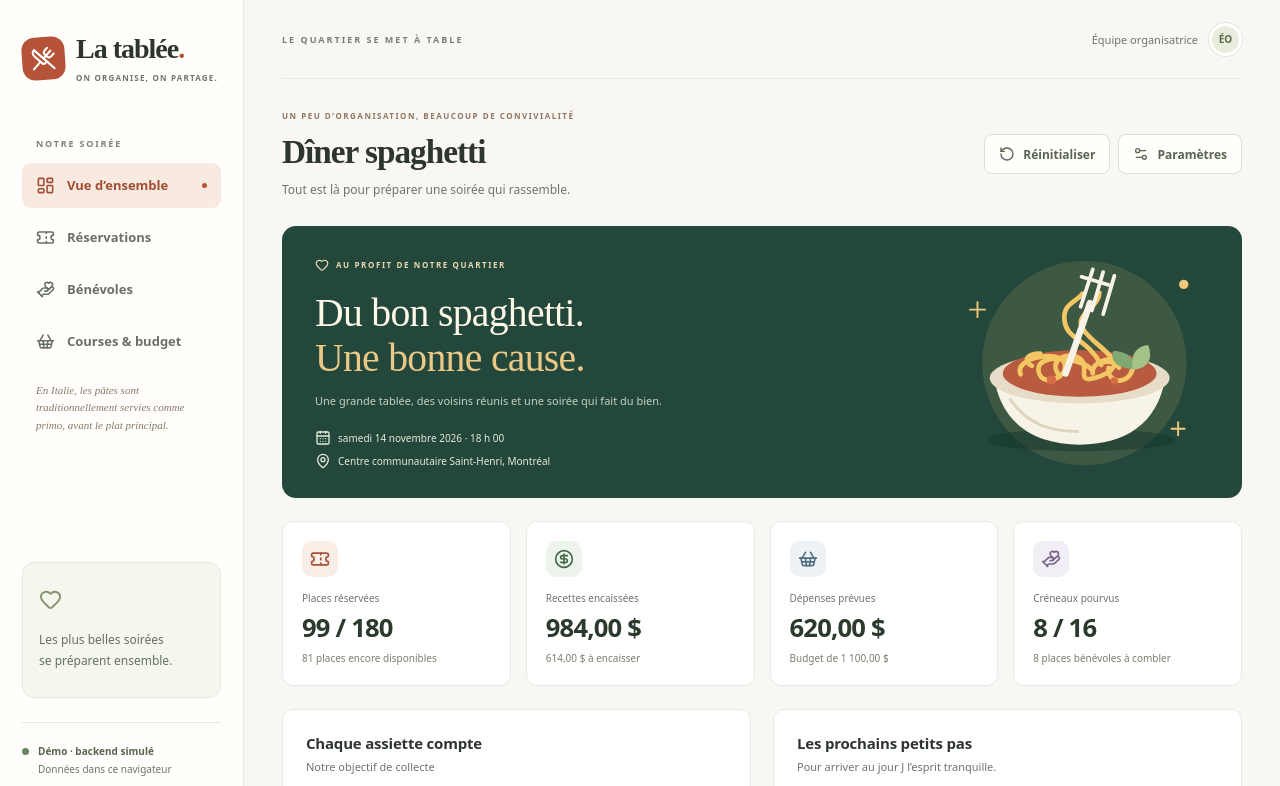
organizer interface › adds and removes a volunteer from a shift
Check: the heading "Du bon spaghetti.Une bonne cause." is shown, box [315,291,585,380]
Click the button "Bénévoles" at (122, 289), box [22,267,221,312]
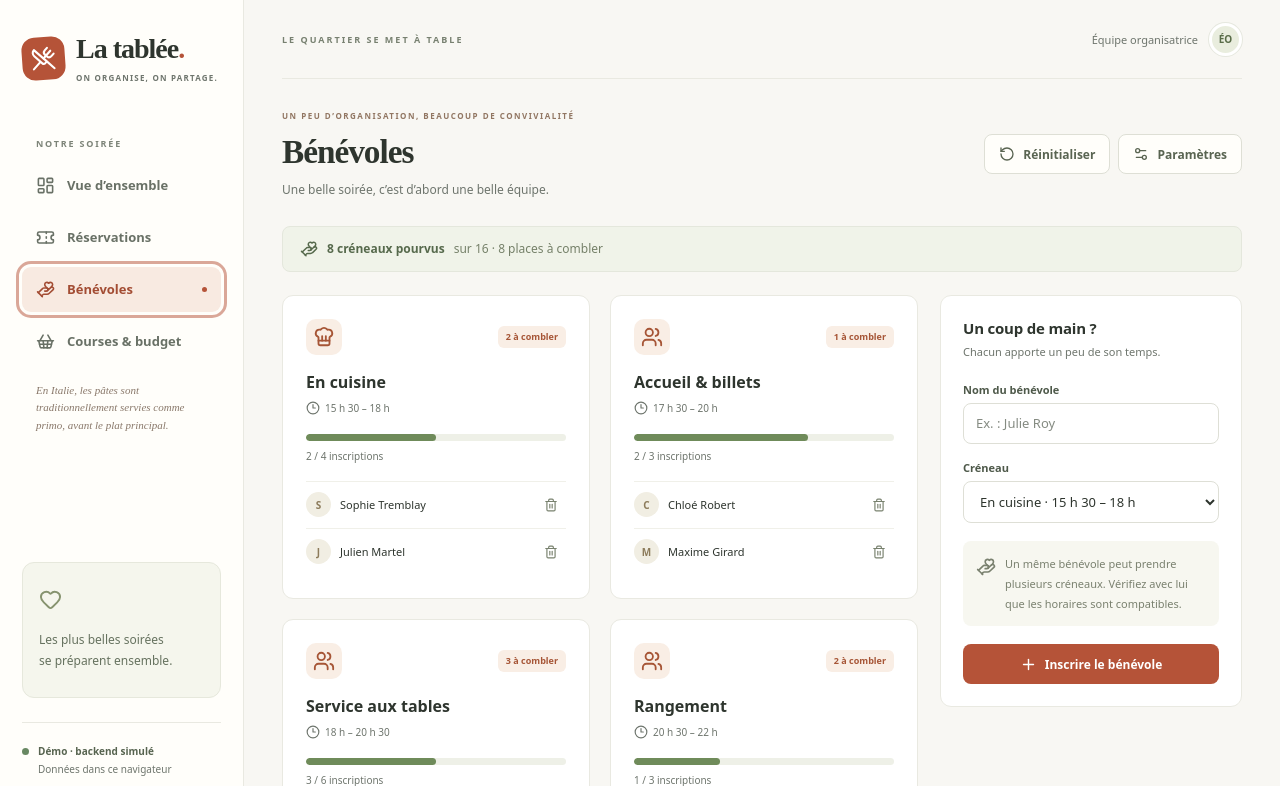
Type "Julie Demo" into the field labelled "Nom du bénévole" at (1091, 423), box [963,402,1219,444]
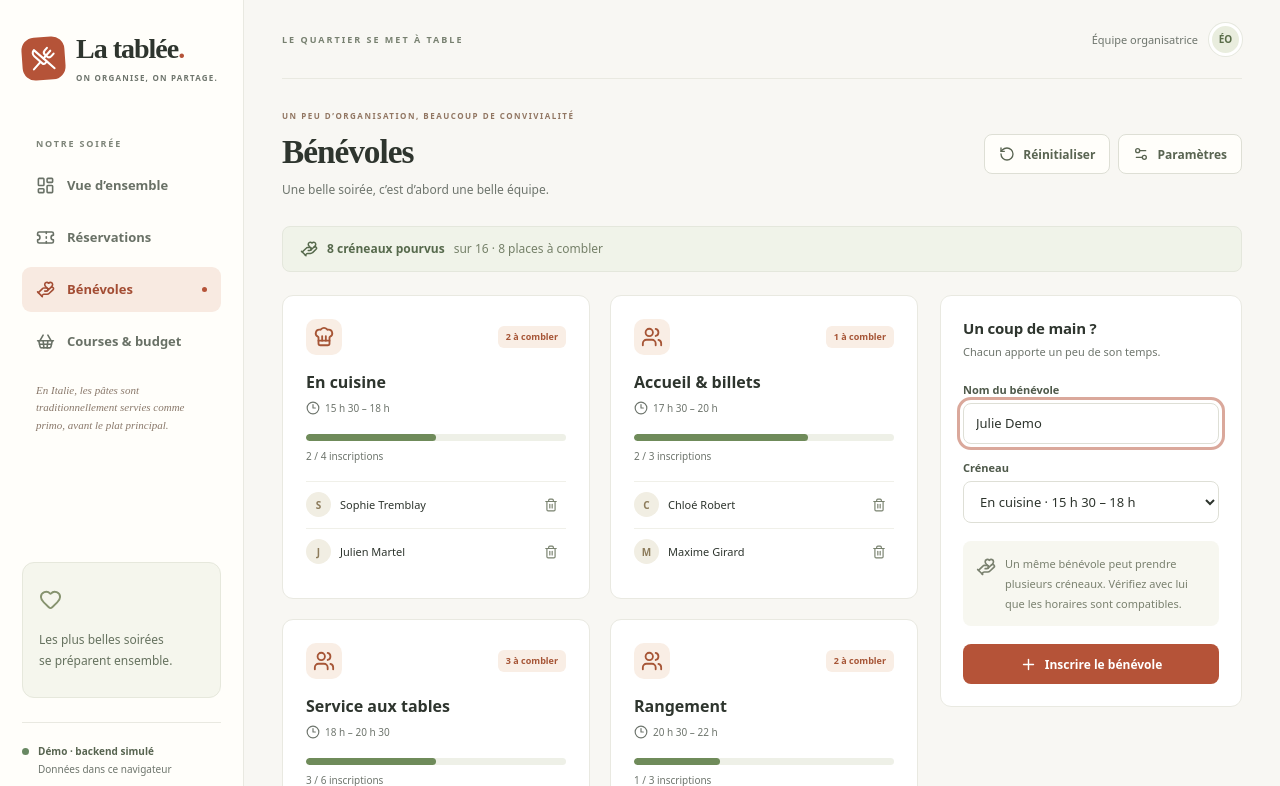
Click the button "Inscrire le bénévole" at (1091, 664), box [963,644,1219,684]
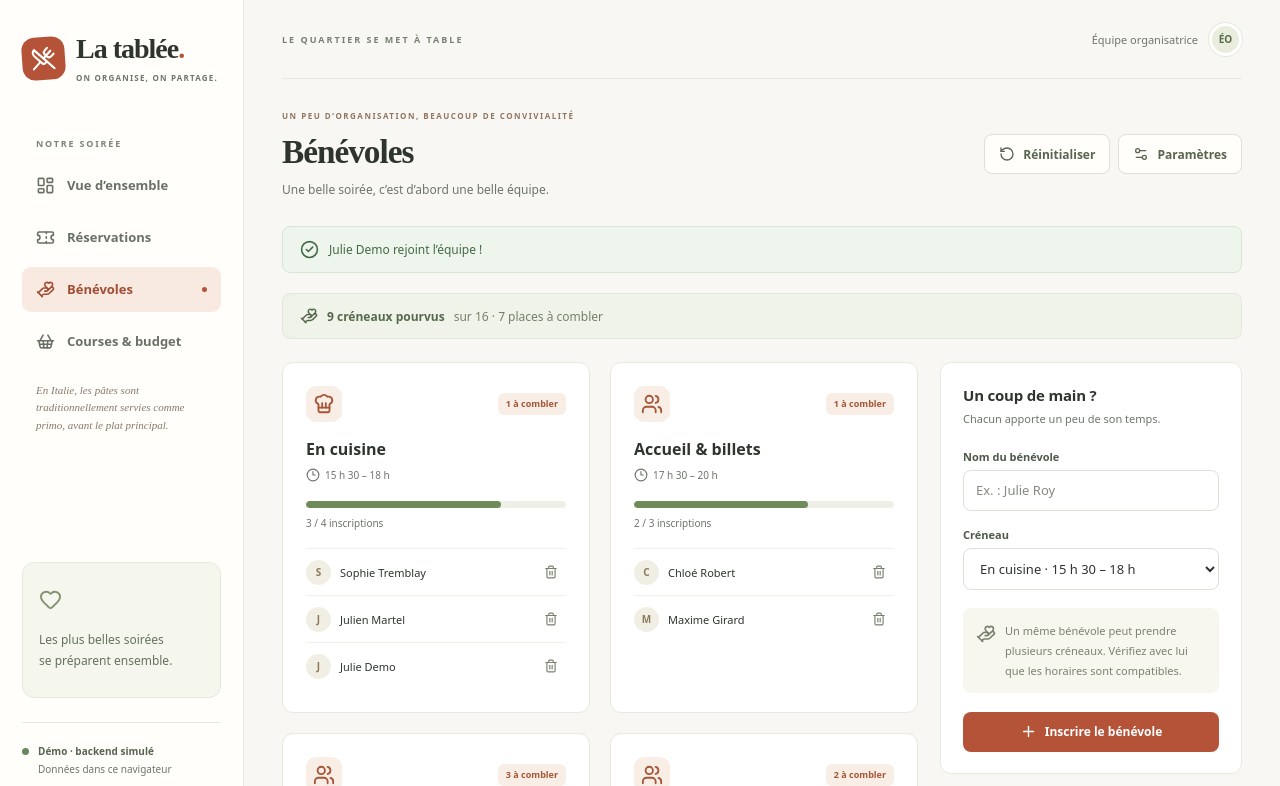
Check: the text "Julie Demo" is shown, box [340,659,396,674]
Click the button named "Retirer Julie Demo du créneau En cuisine" at (551, 666), box [536,651,566,681]
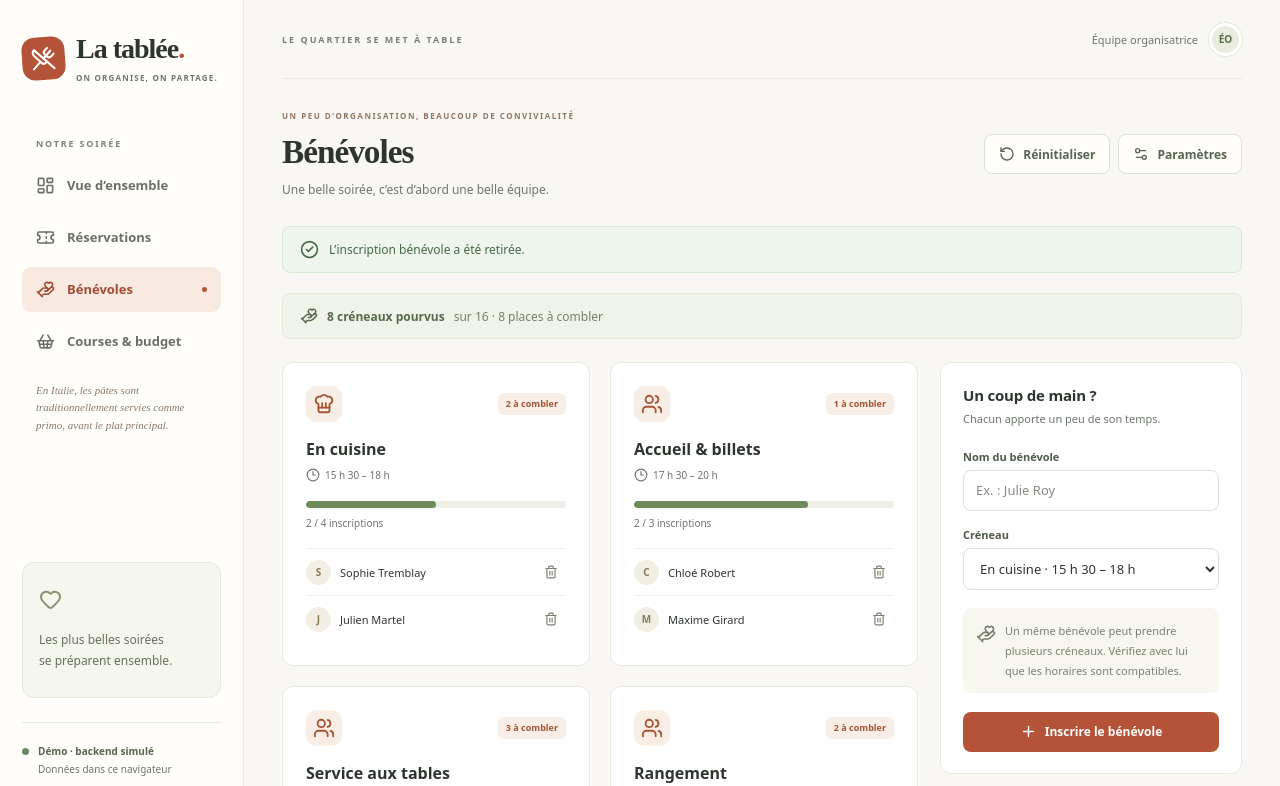
Check: the text "Julie Demo" is gone
